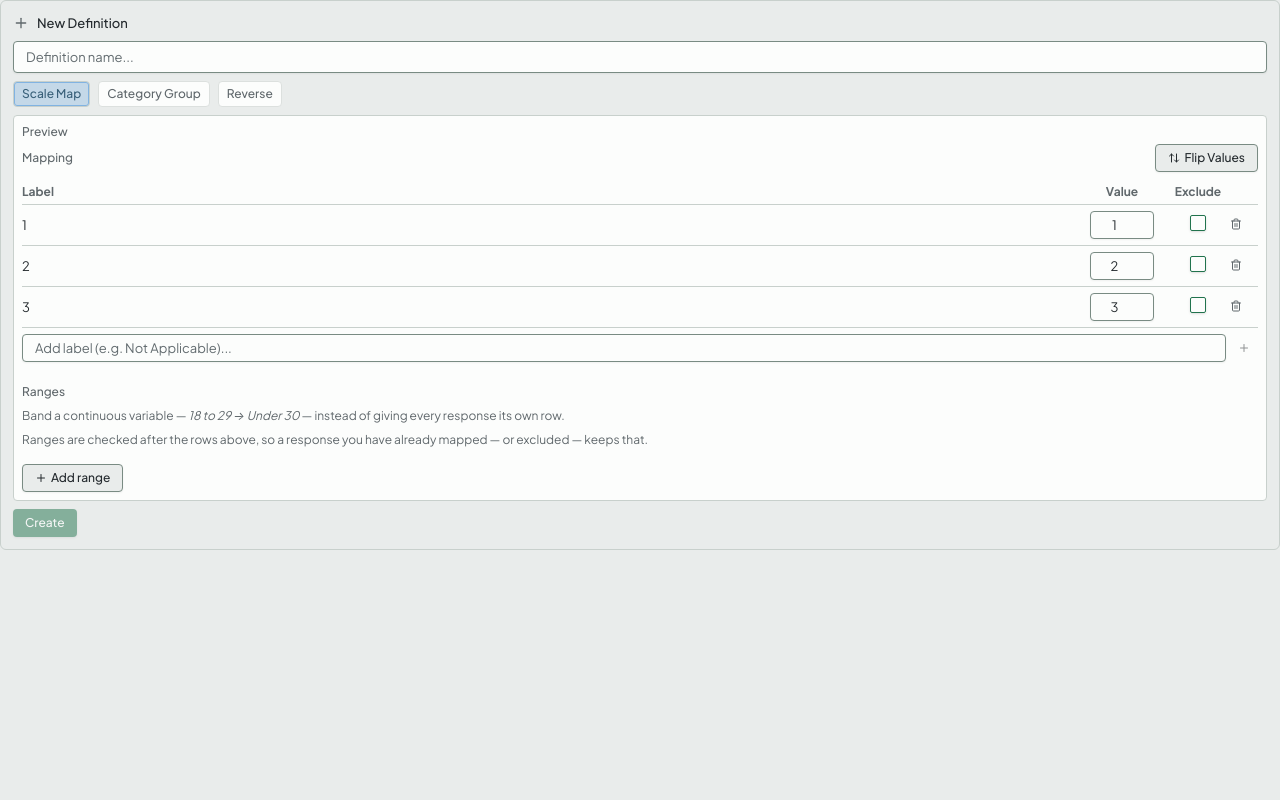
Scenario: #963 — POSITIVE CONTROL: the form is fully operable once both lists answer › still says when there is no scale map to reverse
Step 1. Click the radio button labelled "Reverse" → click(250, 94), box [218,81,282,107]
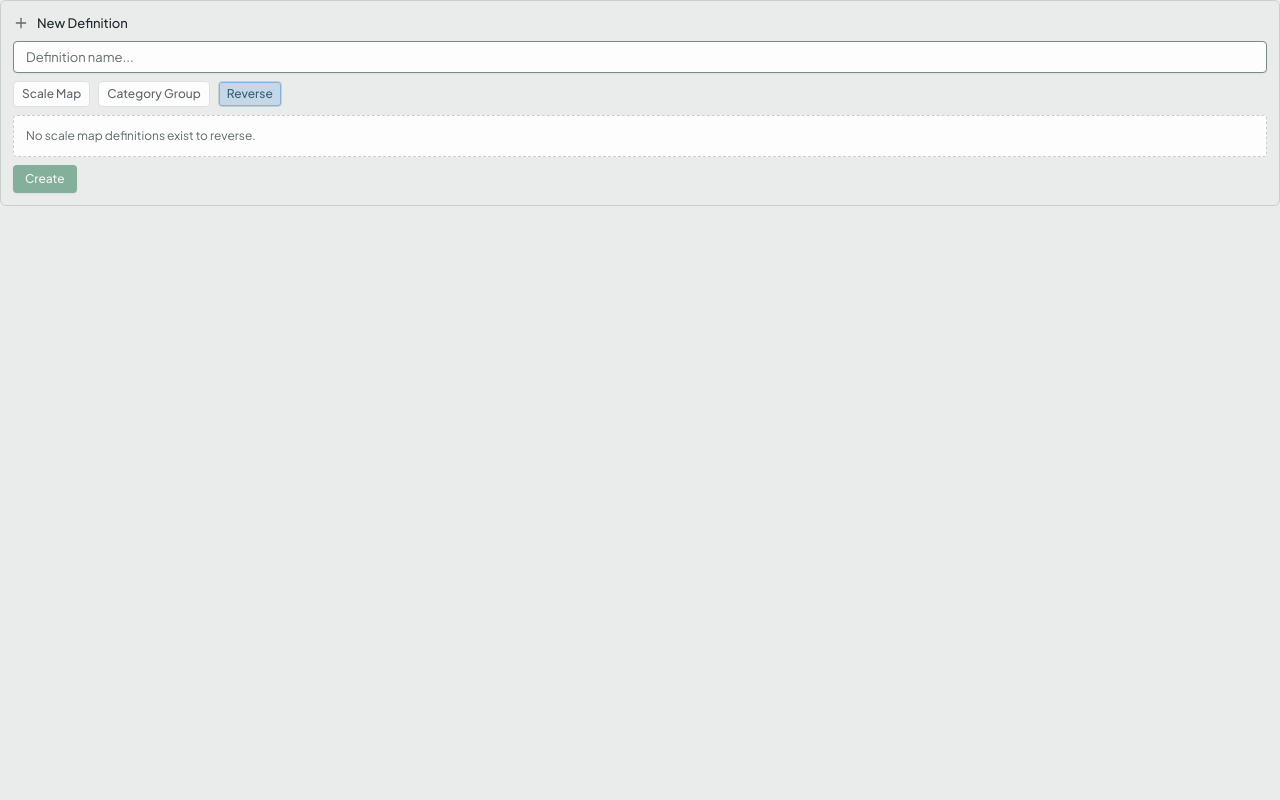
Expected: the text "No scale map definitions exist to reverse." is shown, [13,115,1267,157]
